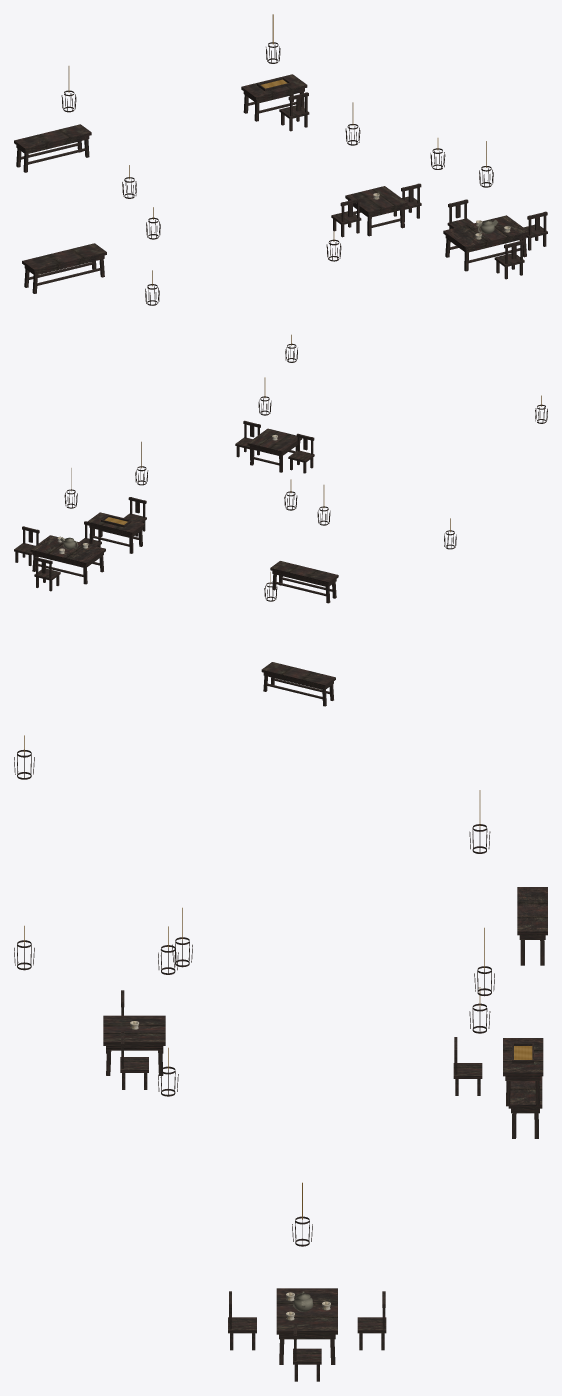
The model's file is tea_furniture.glb.
3 renders of one model, top to bottom at view 1: azimuth 30°, elevation 25°; view 2: azimuth 150°, elevation 25°; view 3: azimuth 270°, elevation 25°, orthographic. The views are drawn at different scales.
Visible parts, largest first — view 1: tea_furniture0; view 2: tea_furniture0; view 3: tea_furniture0.
Part boxes in pixels (x1,y1,x2,y2): tea_furniture0: (14, 14, 547, 305); tea_furniture0: (14, 334, 547, 706); tea_furniture0: (14, 735, 547, 1381).
Bounding box in the file's own units: 16.49 × 7.3 × 11.14.
1 material, 1 textured.
